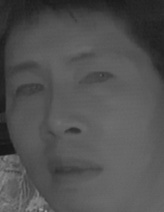eye: (74, 66, 116, 91), (12, 79, 45, 102)
mouth: (44, 151, 105, 187)
